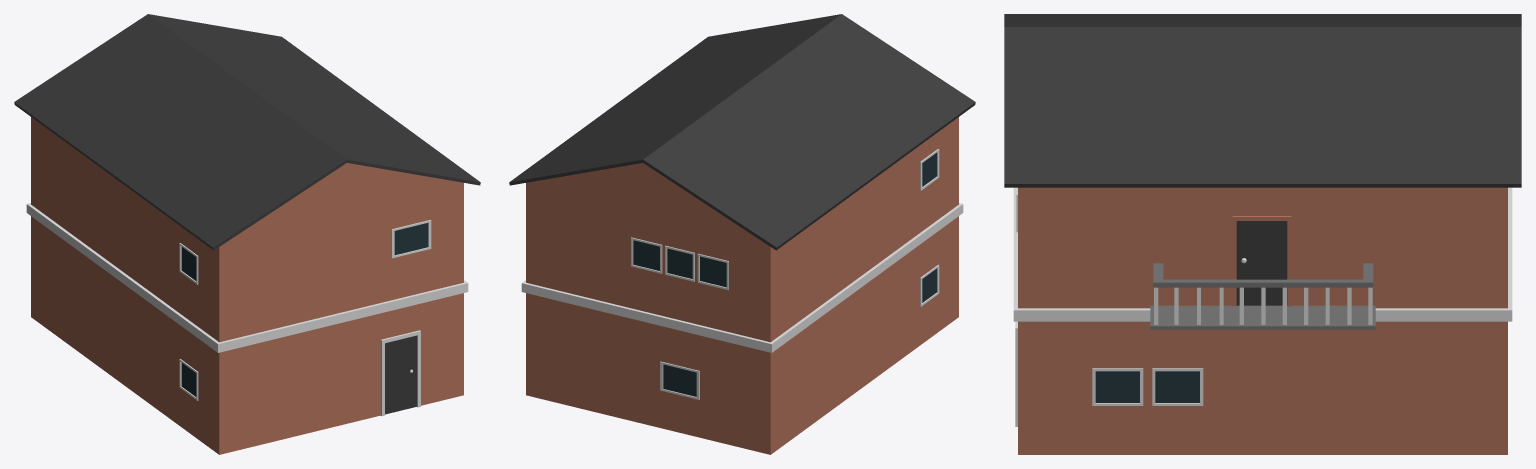
File: orangehouse.glb
3 renders of one model, left to right at view 1: azimuth 30°, elevation 25°; view 2: azimuth 150°, elevation 25°; view 3: azimuth 270°, elevation 25°, orthographic. The views are drawn at different scales.
Parts seen in each view (by area): view 1: Seattle-House-3; view 2: Seattle-House-3; view 3: Seattle-House-3.
Boxes of the visible parts, x1,y1,x2,y2 form: Seattle-House-3: (14, 14, 480, 454); Seattle-House-3: (509, 14, 975, 454); Seattle-House-3: (1004, 14, 1521, 454).
Bounding box in the file's own units: 8.85 × 7.89 × 10.56.
